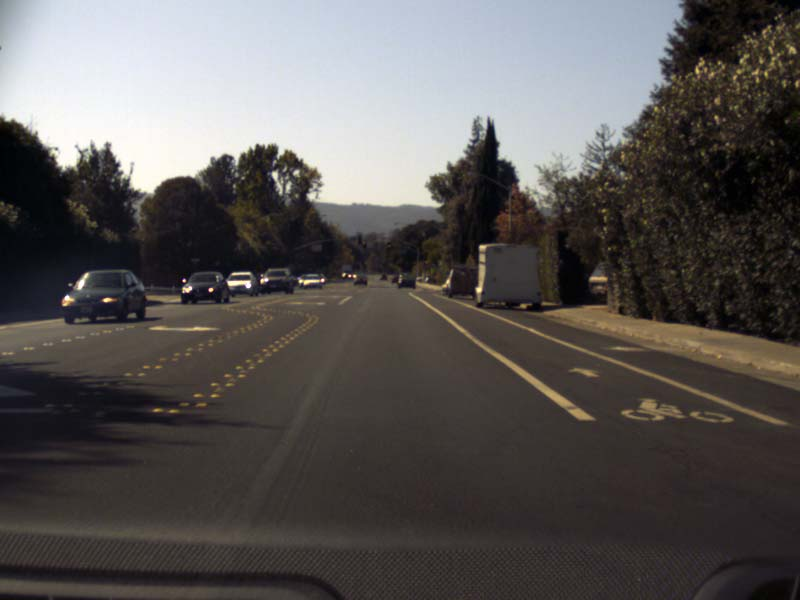Red: (362, 241, 366, 247), (386, 243, 391, 247)
